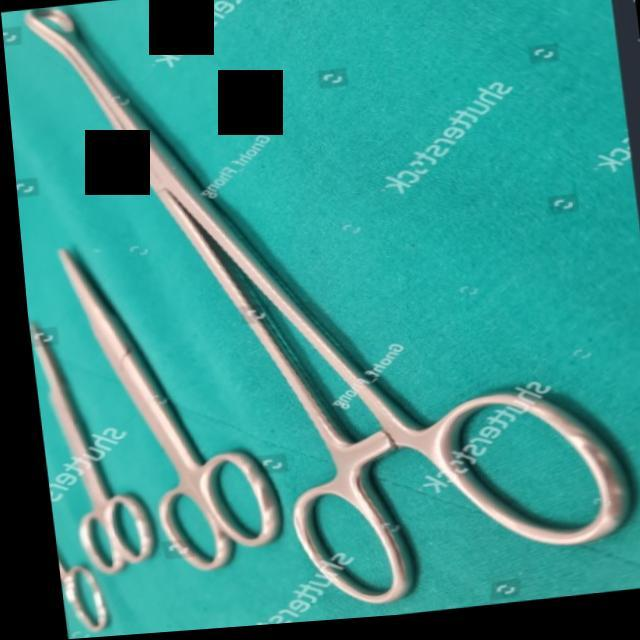Sponge Holding Forceps: (11, 0, 630, 625)
Straight Mayo: (28, 227, 270, 582)
